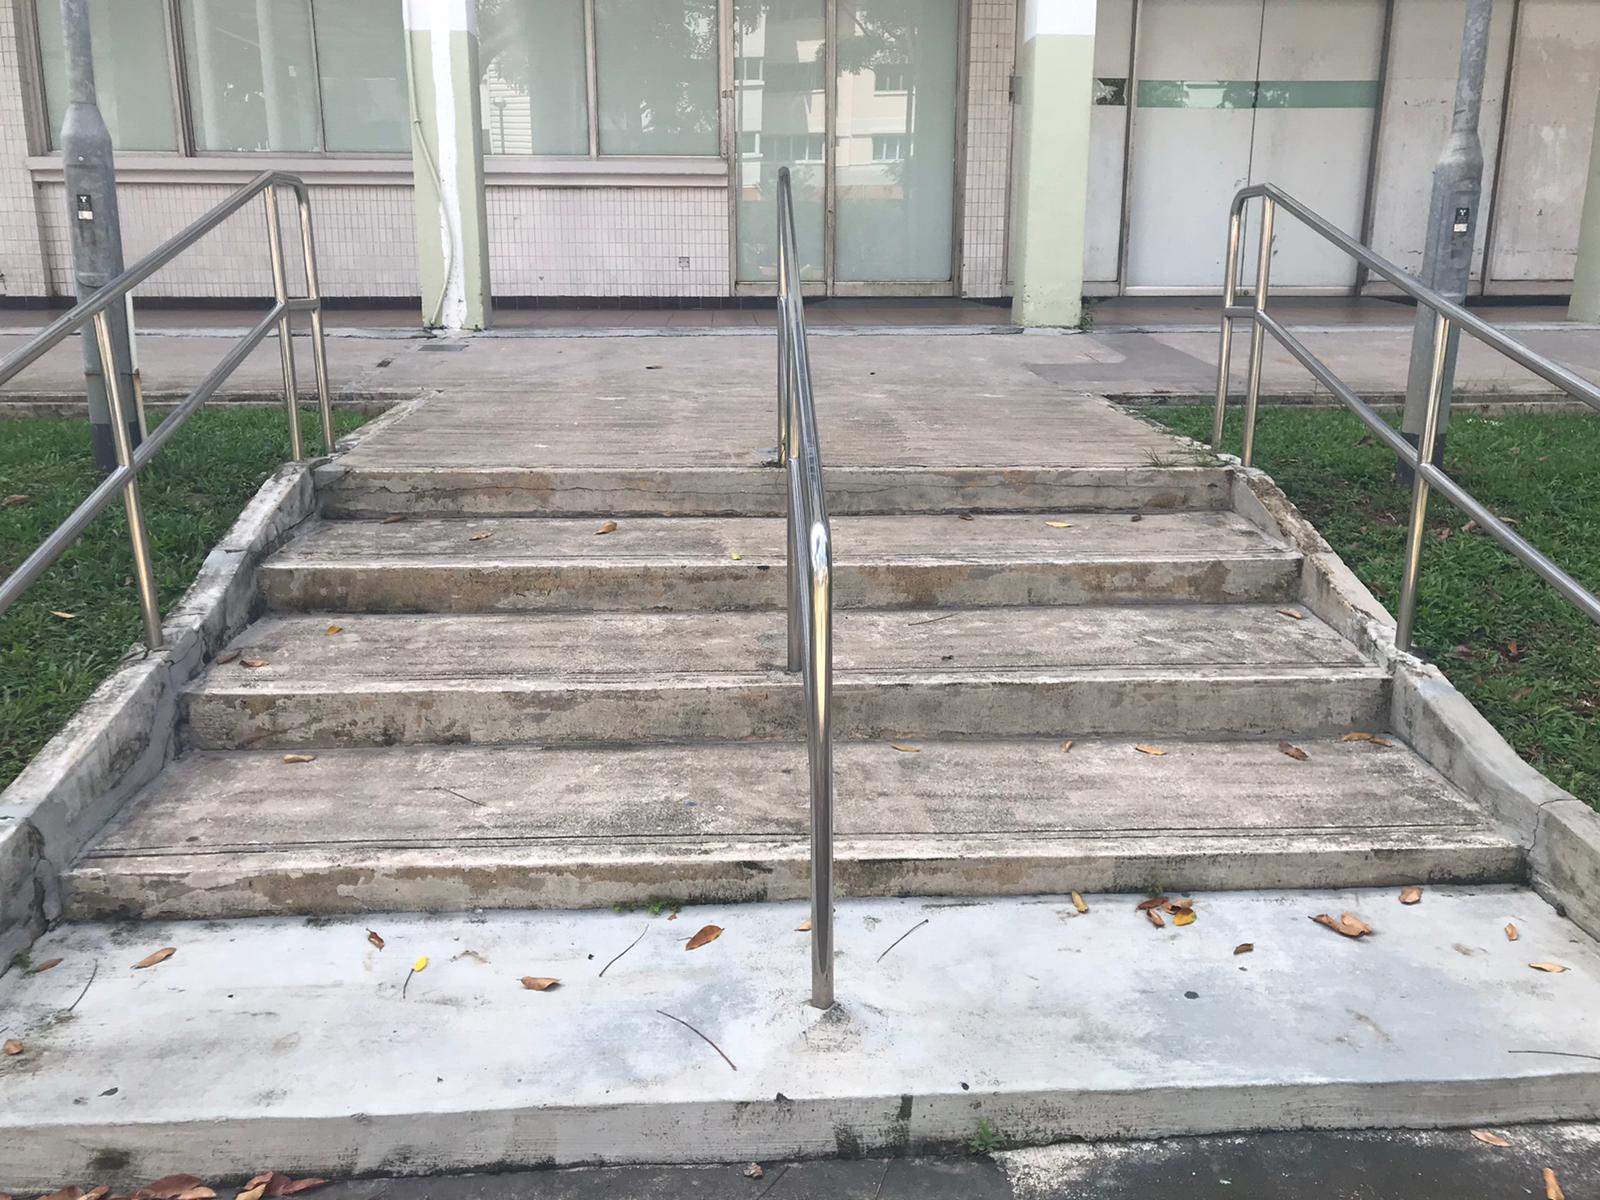upstairs: (244, 456, 1255, 1194)
